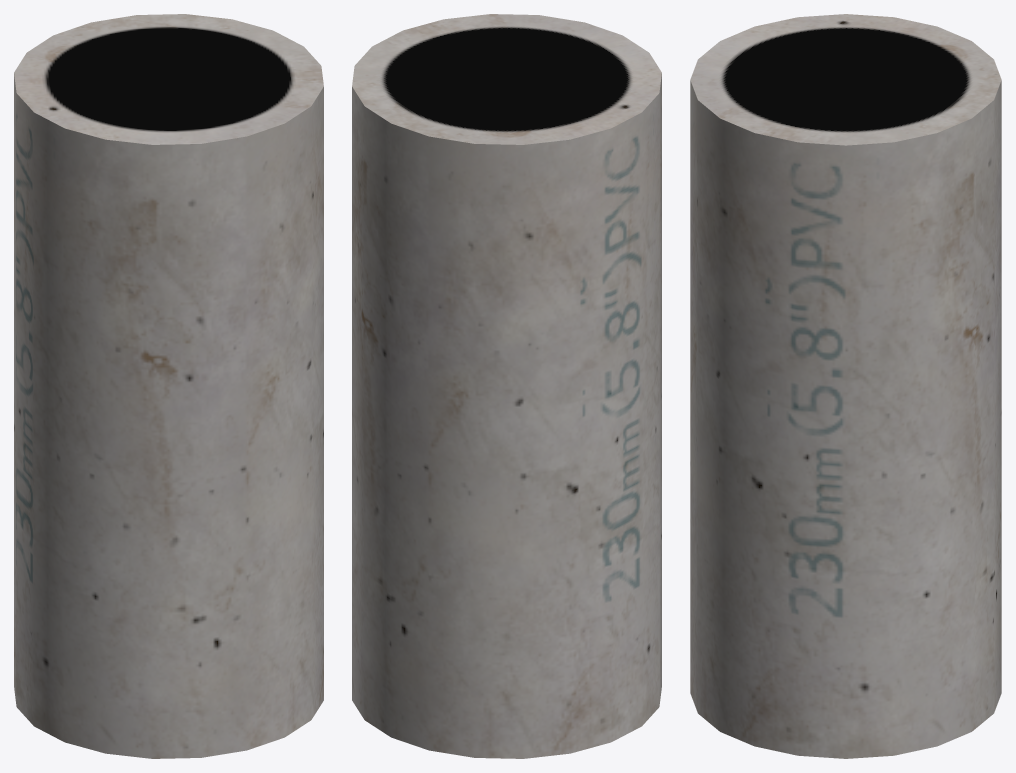
Rendered from PlasticPipe_10a_snaps011.fbx.
3 views of the same model, side by side, from view 1: azimuth 30°, elevation 25°; view 2: azimuth 150°, elevation 25°; view 3: azimuth 270°, elevation 25° (orthographic).
Visible parts, largest first — view 1: PlasticPipe_10a_snaps011_LOD0; view 2: PlasticPipe_10a_snaps011_LOD0; view 3: PlasticPipe_10a_snaps011_LOD0.
Part boxes in pixels (<box>): PlasticPipe_10a_snaps011_LOD0: <box>14,14,323,758</box>; PlasticPipe_10a_snaps011_LOD0: <box>352,14,661,758</box>; PlasticPipe_10a_snaps011_LOD0: <box>690,14,1001,758</box>.
Size of what is drawn, in the model's own units: 23 by 50 by 23.
